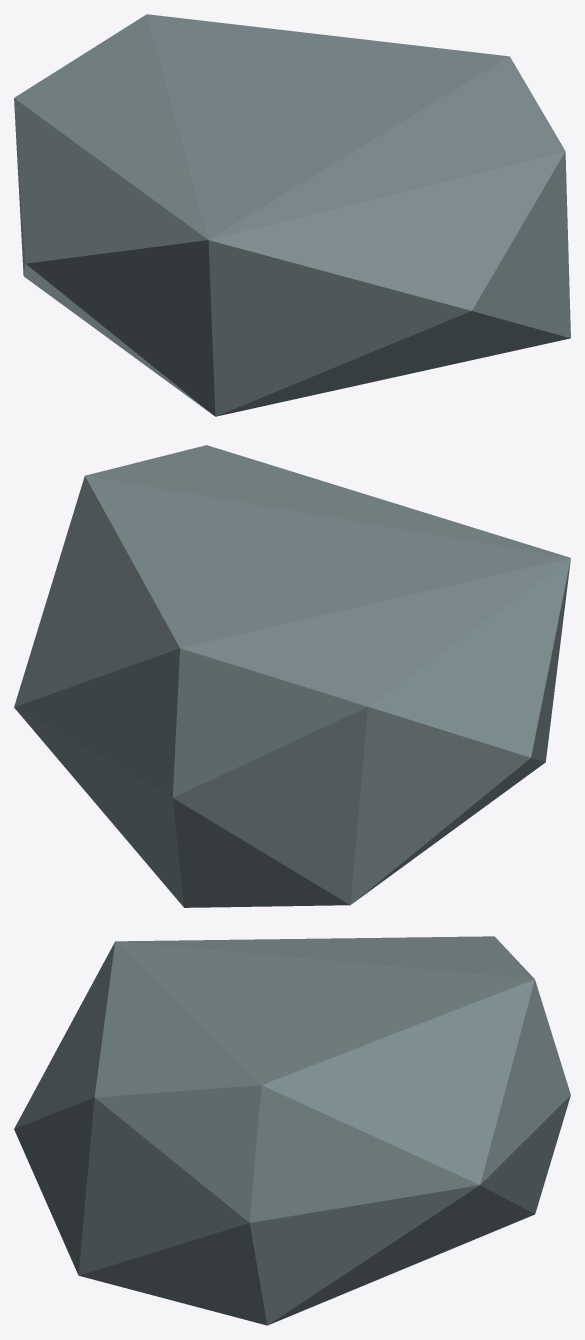
Rendered from Rock_05.fbx.
The picture shows the model from 3 angles, top to bottom: view 1: azimuth 30°, elevation 25°; view 2: azimuth 150°, elevation 25°; view 3: azimuth 270°, elevation 25°; orthographic projection. The views are drawn at different scales.
Visible parts, largest first — view 1: Rock_05; view 2: Rock_05; view 3: Rock_05.
Part boxes in pixels (bbox=[...]): Rock_05: bbox=[14, 14, 570, 416]; Rock_05: bbox=[14, 445, 570, 907]; Rock_05: bbox=[14, 936, 570, 1325].
Bounding box in the file's own units: 65.18 × 31.2 × 65.48.
